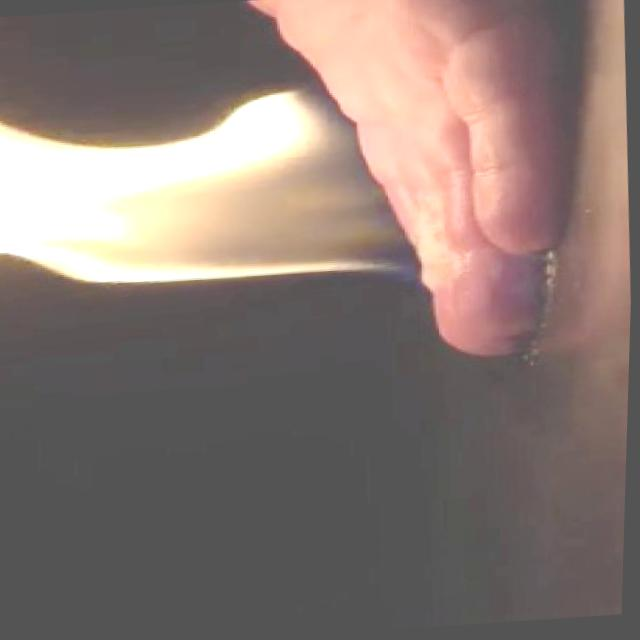no_helmet: (0, 77, 442, 312)
